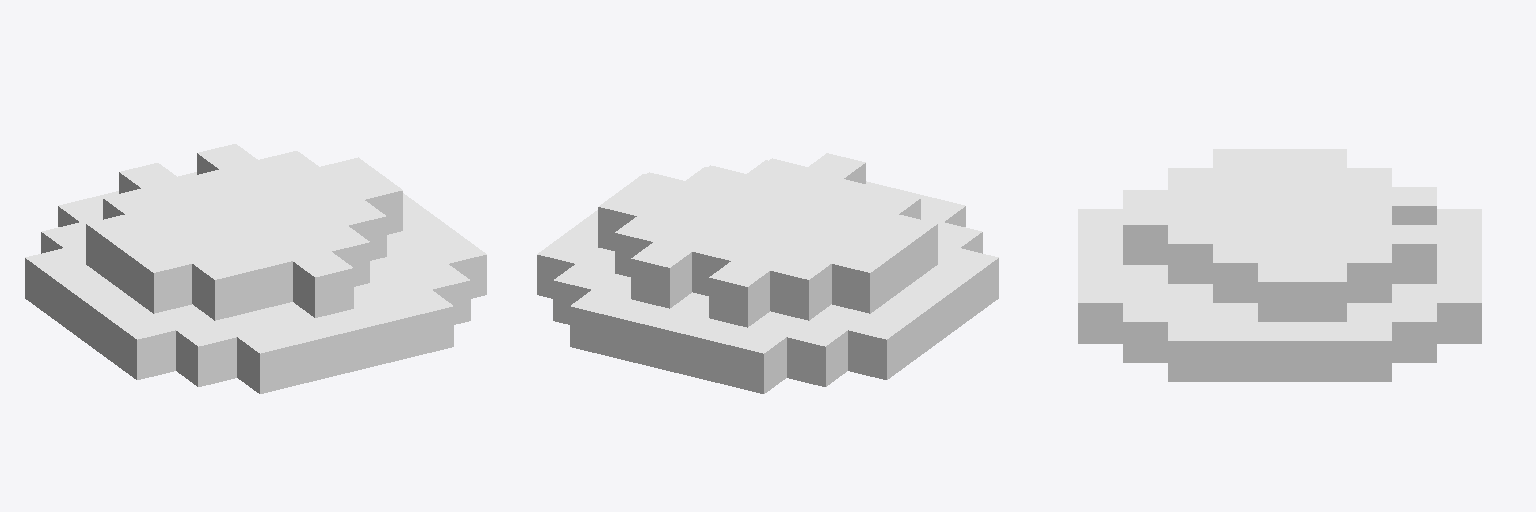
Rendered from LifeObject1.obj.
The picture shows the model from 3 angles: view 1: azimuth 30°, elevation 25°; view 2: azimuth 150°, elevation 25°; view 3: azimuth 270°, elevation 25°; orthographic projection.
Visible parts, largest first — view 1: ObjObject.007; view 2: ObjObject.007; view 3: ObjObject.007.
Boxes of the visible parts, x1=… form: ObjObject.007: x1=25, y1=144, x2=486, y2=393; ObjObject.007: x1=537, y1=153, x2=998, y2=393; ObjObject.007: x1=1078, y1=149, x2=1481, y2=381.
Size of the model in its own units: 0.9 by 0.2 by 0.9.